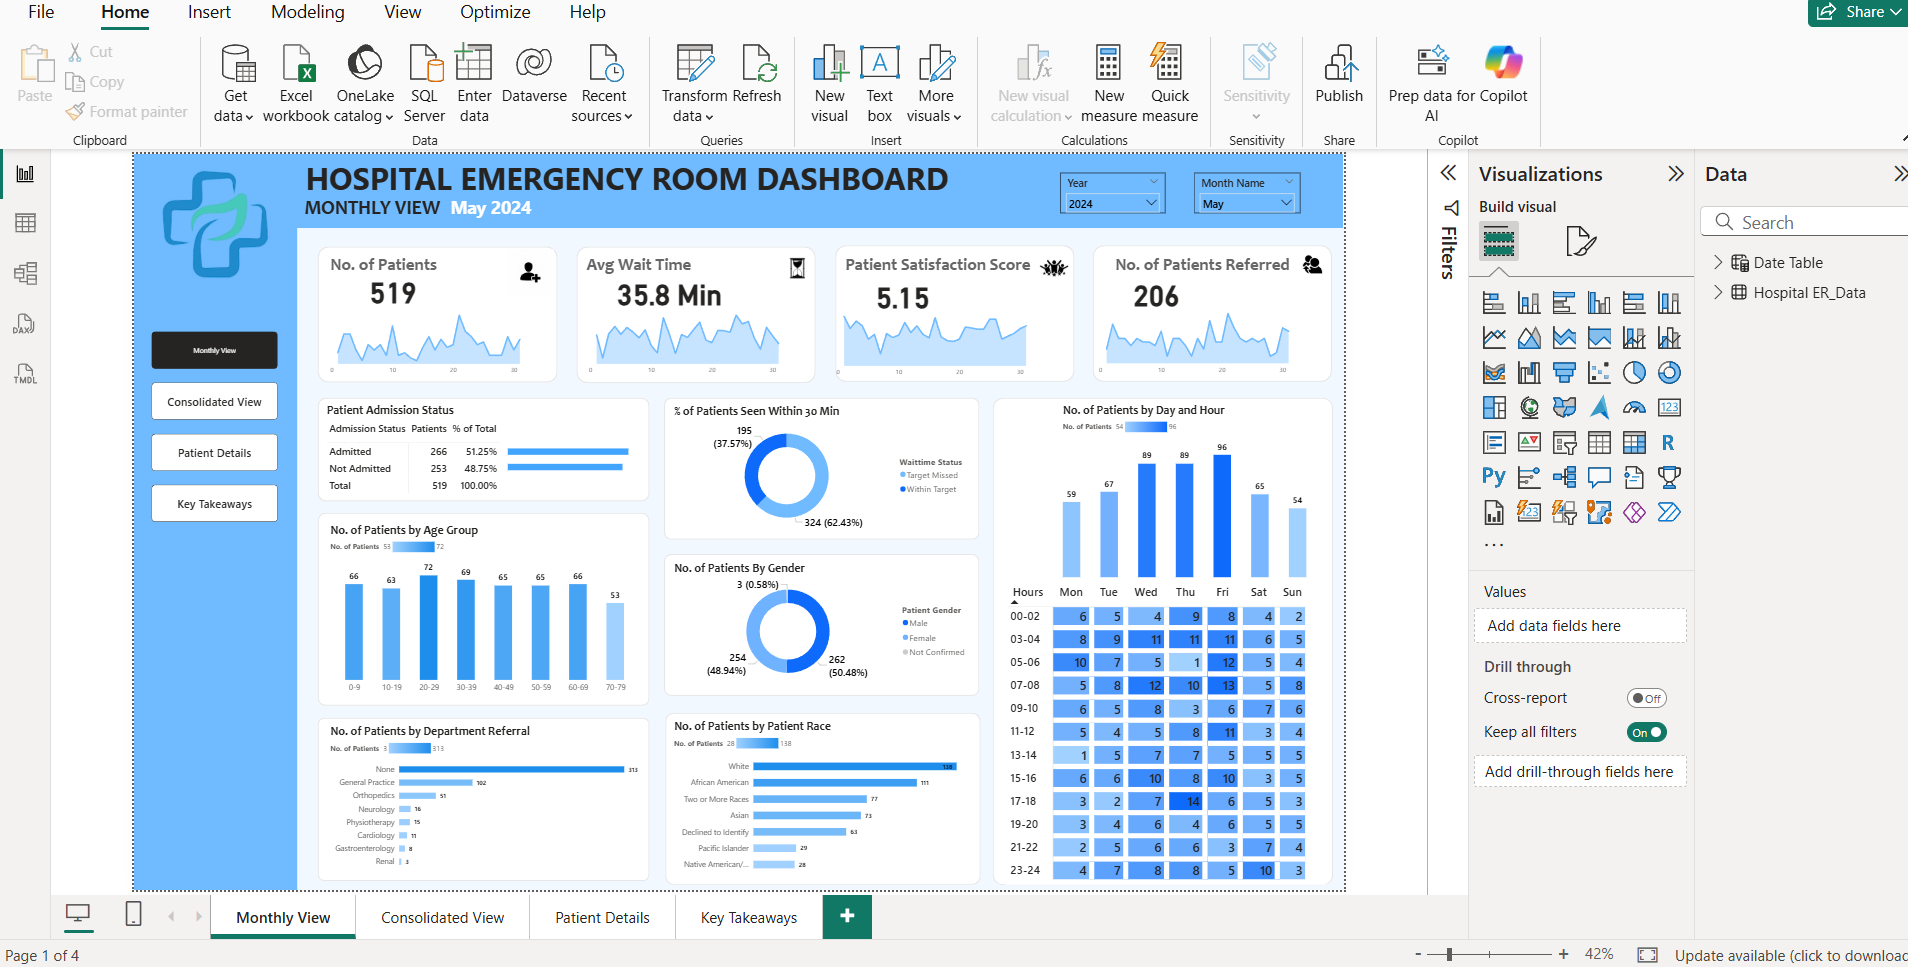

Layout of this report page (visuals, bound fields, positions):
{"tool":"powerbi","page":{"name":"Monthly View","canvas":[2300,1400],"ordinal":0},"visuals":[{"type":"shape","box":[0,0,310.7,1400.5],"z":0},{"type":"shape","box":[288.5,0,2012,140.5],"z":1000},{"type":"textbox","box":[320.5,0,1237.8,96.2],"z":2000},{"type":"textbox","box":[319.4,74.3,294.7,66.9],"z":3000},{"type":"shape","box":[350.1,175.1,456.2,258.9],"z":4000},{"type":"card","fields":{"Values":["Hospital ER_Data.No. of Patients"]},"box":[394.5,221.9,194.8,74],"z":5000},{"type":"slicer","fields":{"Values":["Date Table.Year"]},"box":[1763,34.5,199.7,76.4],"z":6000},{"type":"slicer","fields":{"Values":["Date Table.Month Name"]},"box":[2016.9,34.5,202.2,76.4],"z":7000},{"type":"textbox","box":[362.5,184.9,254,54.2],"z":8000},{"type":"areaChart","fields":{"Category":["Date Table.Date.Variation.Date Hierarchy.Day"],"Y":["Hospital ER_Data.No. of Patients"]},"box":[362.5,283.6,434,145.5],"z":9000},{"type":"card","fields":{"Values":["Min(Date Table.Month & Year)"]},"box":[577.8,73.7,202.1,54.7],"z":10000},{"type":"shape","box":[842.4,175.1,455,260],"z":11000},{"type":"card","fields":{"Values":["Hospital ER_Data.Avg Wait Time"]},"box":[890.1,229.3,258.9,66.6],"z":12000},{"type":"textbox","box":[840.8,184.9,246.6,64.1],"z":13000},{"type":"areaChart","fields":{"Category":["Date Table.Date.Variation.Date Hierarchy.Day"],"Y":["Avg(Hospital ER_Data.Patient Waittime)"]},"box":[853.1,283.6,434,145.5],"z":14000},{"type":"shape","box":[1333.5,172.6,455,260],"z":15000},{"type":"card","fields":{"Values":["Avg(Hospital ER_Data.Patient Satisfaction Score)"]},"box":[1366,231.8,194.8,74],"z":16000},{"type":"textbox","box":[1333.9,184.9,394.5,64.1],"z":17000},{"type":"areaChart","fields":{"Category":["Date Table.Date.Variation.Date Hierarchy.Day"],"Y":["Hospital ER_Data.Satisfaction Score"]},"box":[1324.1,288.5,434,145.5],"z":18000},{"type":"shape","box":[1824.6,172.6,455,260],"z":19000},{"type":"card","fields":{"Values":["Hospital ER_Data.No. of Patients Referred"]},"box":[1846.8,226.8,194.8,74],"z":20000},{"type":"shape","box":[350.1,463.6,631.2,197.3],"z":21000},{"type":"textbox","box":[1846.8,184.9,372.3,61.6],"z":22000},{"type":"areaChart","fields":{"Category":["Date Table.Date.Variation.Date Hierarchy.Day"],"Y":["Hospital ER_Data.No. of Patients Referred"]},"box":[1824.6,283.6,434,145.5],"z":23000},{"type":"pivotTable","title":"Patient Admission Status","fields":{"Rows":["Hospital ER_Data.Admission Status"],"Values":["Hospital ER_Data.No. of Patients1","Hospital ER_Data.No. of Patients"]},"box":[362.5,473.4,601.6,177.5],"z":24000},{"type":"barChart","fields":{"Category":["Hospital ER_Data.Admission Status"],"Y":["Hospital ER_Data.No. of Patients"]},"box":[705.2,532.6,268.8,91.2],"z":25000},{"type":"shape","box":[350.1,683,631.2,367.4],"z":26000},{"type":"clusteredColumnChart","fields":{"Category":["Hospital ER_Data.Age Group"],"Y":["Hospital ER_Data.No. of Patients"]},"box":[367.4,700.3,599.2,332.9],"z":27000},{"type":"shape","box":[350.1,1072.6,631.2,310.7],"z":28000},{"type":"clusteredBarChart","fields":{"Category":["Hospital ER_Data.Department Referral"],"Y":["Hospital ER_Data.No. of Patients"]},"box":[367.4,1084.9,596.7,283.6],"z":29000},{"type":"shape","box":[1008.5,463.6,600,270],"z":30000},{"type":"donutChart","title":"% of Patients Seen Within 30 Min","fields":{"Category":["Hospital ER_Data.Waittime Status"],"Y":["Hospital ER_Data.No. of Patients"]},"box":[1022.5,475,572.5,245],"z":31000},{"type":"shape","box":[1007.5,760,600,270],"z":32000},{"type":"donutChart","title":"No. of Patients By Gender","fields":{"Y":["Hospital ER_Data.No. of Patients"],"Category":["Hospital ER_Data.Patient Gender"]},"box":[1022.5,772.5,572.5,242.5],"z":33000},{"type":"shape","box":[1010,1062.5,600,327.5],"z":34000},{"type":"clusteredBarChart","fields":{"Y":["Hospital ER_Data.No. of Patients"],"Category":["Hospital ER_Data.Patient Race"]},"box":[1022.5,1075,572.5,302.5],"z":35000},{"type":"shape","box":[1632.5,462.5,647.5,927.5],"z":36000},{"type":"pivotTable","fields":{"Rows":["Hospital ER_Data.Waittime Interval"],"Columns":["Date Table.Day Name"],"Values":["Hospital ER_Data.No. of Patients"]},"box":[1657,811.2,609,579.4],"z":37000},{"type":"columnChart","title":"No. of Patients by Day and Hour","fields":{"Category":["Date Table.Day Name"],"Y":["Hospital ER_Data.No. of Patients"]},"box":[1763,473.4,475.9,337.8],"z":38000},{"type":"image","box":[690.4,175.1,128.2,98.6],"z":39000},{"type":"image","box":[1235.3,184.9,51.8,64.1],"z":40000},{"type":"image","box":[1708.7,180,81.4,74],"z":41000},{"type":"image","box":[2219.1,180,46.8,59.2],"z":42000},{"type":"image","box":[34.5,22.2,241.6,224.4],"z":43000},{"type":"pageNavigator","box":[33.3,337.6,240.2,363.8],"z":44000}]}

Visuals, with their boxes on the page's 2300x1400 design canvas (x1, y1, x2, y2). These are canvas units, not pixel positions in the 1908x967 screenshot, which may show the page scaled, cropped or inside an application window:
shape: box=[0, 0, 311, 1400]
shape: box=[288, 0, 2300, 140]
textbox: box=[320, 0, 1558, 96]
textbox: box=[319, 74, 614, 141]
shape: box=[350, 175, 806, 434]
card - Hospital ER_Data.No. of Patients: box=[394, 222, 589, 296]
slicer - Date Table.Year: box=[1763, 34, 1963, 111]
slicer - Date Table.Month Name: box=[2017, 34, 2219, 111]
textbox: box=[362, 185, 616, 239]
areaChart - Date Table.Date.Variation.Date Hierarchy.Day x Hospital ER_Data.No. of Patients: box=[362, 284, 796, 429]
card - Min(Date Table.Month & Year): box=[578, 74, 780, 128]
shape: box=[842, 175, 1297, 435]
card - Hospital ER_Data.Avg Wait Time: box=[890, 229, 1149, 296]
textbox: box=[841, 185, 1087, 249]
areaChart - Date Table.Date.Variation.Date Hierarchy.Day x Avg(Hospital ER_Data.Patient Waittime): box=[853, 284, 1287, 429]
shape: box=[1334, 173, 1788, 433]
card - Avg(Hospital ER_Data.Patient Satisfaction Score): box=[1366, 232, 1561, 306]
textbox: box=[1334, 185, 1728, 249]
areaChart - Date Table.Date.Variation.Date Hierarchy.Day x Hospital ER_Data.Satisfaction Score: box=[1324, 288, 1758, 434]
shape: box=[1825, 173, 2280, 433]
card - Hospital ER_Data.No. of Patients Referred: box=[1847, 227, 2042, 301]
shape: box=[350, 464, 981, 661]
textbox: box=[1847, 185, 2219, 246]
areaChart - Date Table.Date.Variation.Date Hierarchy.Day x Hospital ER_Data.No. of Patients Referred: box=[1825, 284, 2259, 429]
"Patient Admission Status" pivotTable: box=[362, 473, 964, 651]
barChart - Hospital ER_Data.Admission Status x Hospital ER_Data.No. of Patients: box=[705, 533, 974, 624]
shape: box=[350, 683, 981, 1050]
clusteredColumnChart - Hospital ER_Data.Age Group x Hospital ER_Data.No. of Patients: box=[367, 700, 967, 1033]
shape: box=[350, 1073, 981, 1383]
clusteredBarChart - Hospital ER_Data.Department Referral x Hospital ER_Data.No. of Patients: box=[367, 1085, 964, 1368]
shape: box=[1008, 464, 1608, 734]
"% of Patients Seen Within 30 Min" donutChart: box=[1022, 475, 1595, 720]
shape: box=[1008, 760, 1608, 1030]
"No. of Patients By Gender" donutChart: box=[1022, 772, 1595, 1015]
shape: box=[1010, 1062, 1610, 1390]
clusteredBarChart - Hospital ER_Data.No. of Patients x Hospital ER_Data.Patient Race: box=[1022, 1075, 1595, 1378]
shape: box=[1632, 462, 2280, 1390]
pivotTable - Hospital ER_Data.Waittime Interval x Date Table.Day Name: box=[1657, 811, 2266, 1391]
"No. of Patients by Day and Hour" columnChart: box=[1763, 473, 2239, 811]
image: box=[690, 175, 819, 274]
image: box=[1235, 185, 1287, 249]
image: box=[1709, 180, 1790, 254]
image: box=[2219, 180, 2266, 239]
image: box=[34, 22, 276, 247]
pageNavigator: box=[33, 338, 274, 701]
